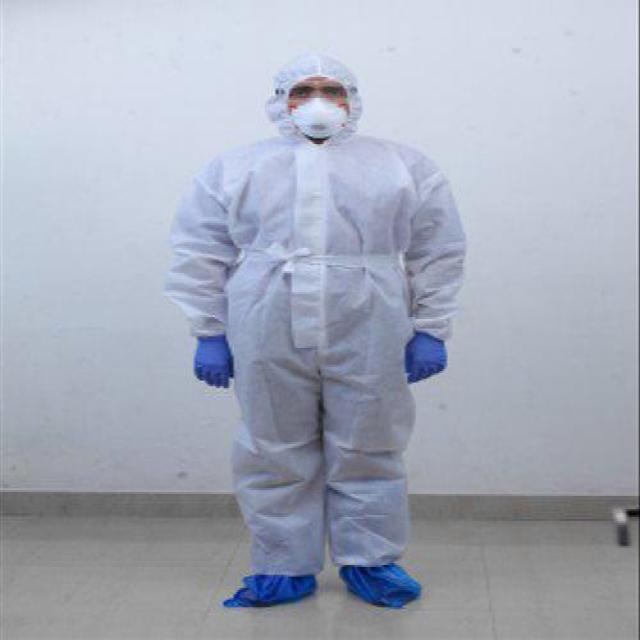Gloves: (403, 327, 447, 384), (193, 336, 236, 388)
Mask: (287, 100, 348, 136)
